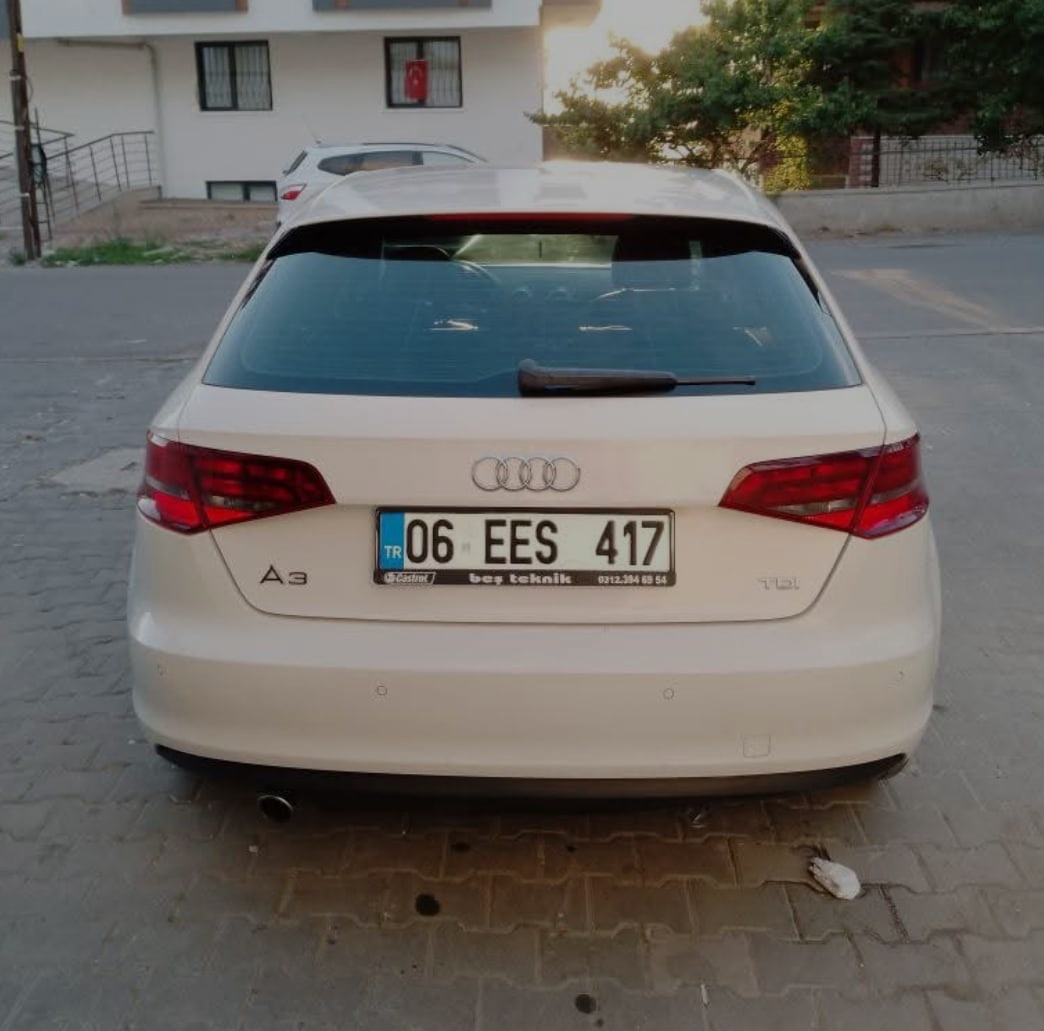plaka: (396, 491, 674, 577)
